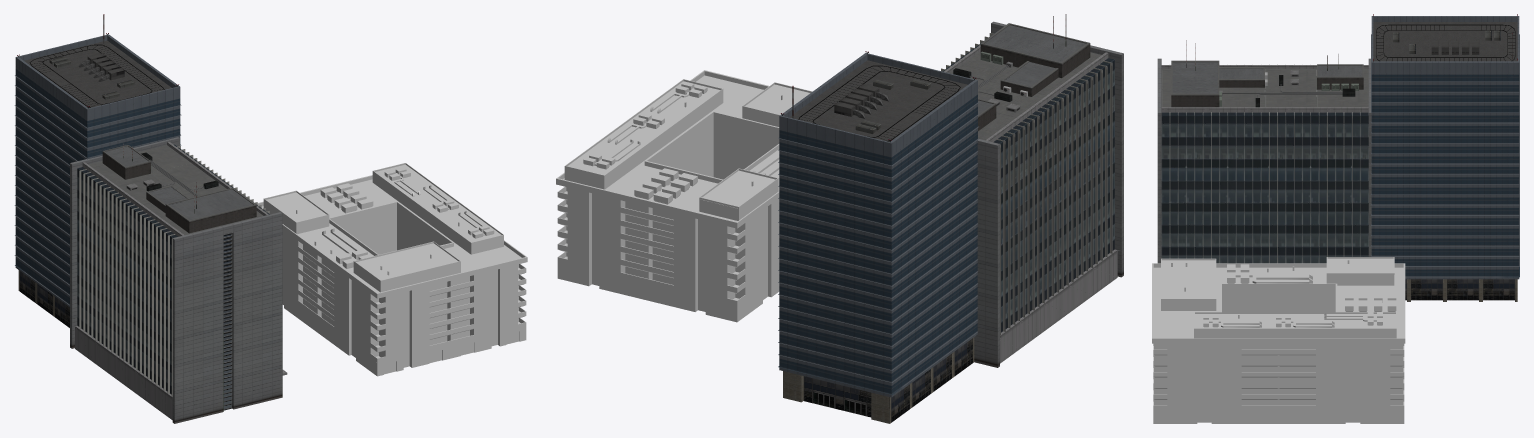
The picture shows the model from 3 angles, left to right: view 1: azimuth 30°, elevation 25°; view 2: azimuth 150°, elevation 25°; view 3: azimuth 270°, elevation 25°; orthographic projection. The views are drawn at different scales.
Parts seen in each view (by area): view 1: AIT01W2W2.001, LOWRISEMODERNCONDO2.001, 45building.001; view 2: 45building.001, LOWRISEMODERNCONDO2.001, AIT01W2W2.001; view 3: AIT01W2W2.001, LOWRISEMODERNCONDO2.001, 45building.001.
Part boxes in pixels (x1,y1,x2,y2): AIT01W2W2.001: (70, 137, 287, 423); LOWRISEMODERNCONDO2.001: (257, 163, 527, 376); 45building.001: (14, 14, 181, 327); 45building.001: (778, 51, 978, 423); LOWRISEMODERNCONDO2.001: (556, 70, 812, 322); AIT01W2W2.001: (941, 14, 1123, 367); AIT01W2W2.001: (1157, 40, 1371, 263); LOWRISEMODERNCONDO2.001: (1152, 257, 1405, 423); 45building.001: (1371, 14, 1519, 301).
Bounding box in the file's own units: 3.41 × 2.42 × 3.01.
